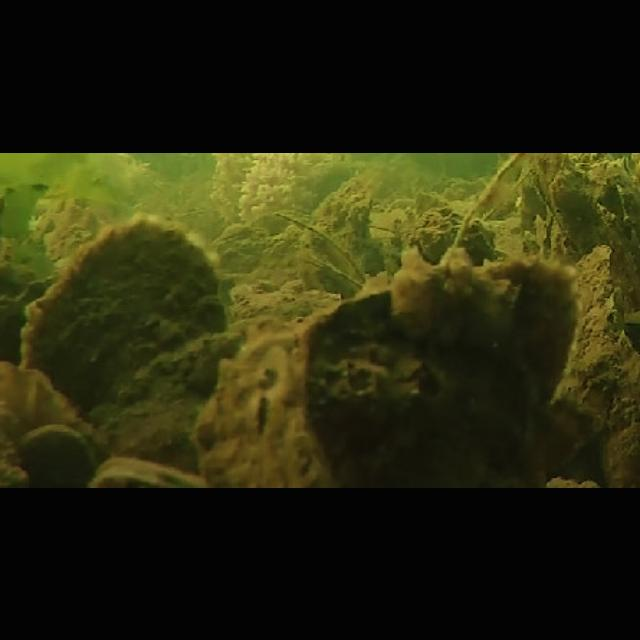Oyster-Closed: (306, 245, 548, 487), (16, 217, 224, 412), (195, 329, 341, 487), (545, 245, 633, 476), (489, 266, 583, 397), (0, 359, 112, 466), (299, 180, 374, 292), (601, 356, 640, 487), (20, 426, 95, 487), (91, 460, 204, 487)
